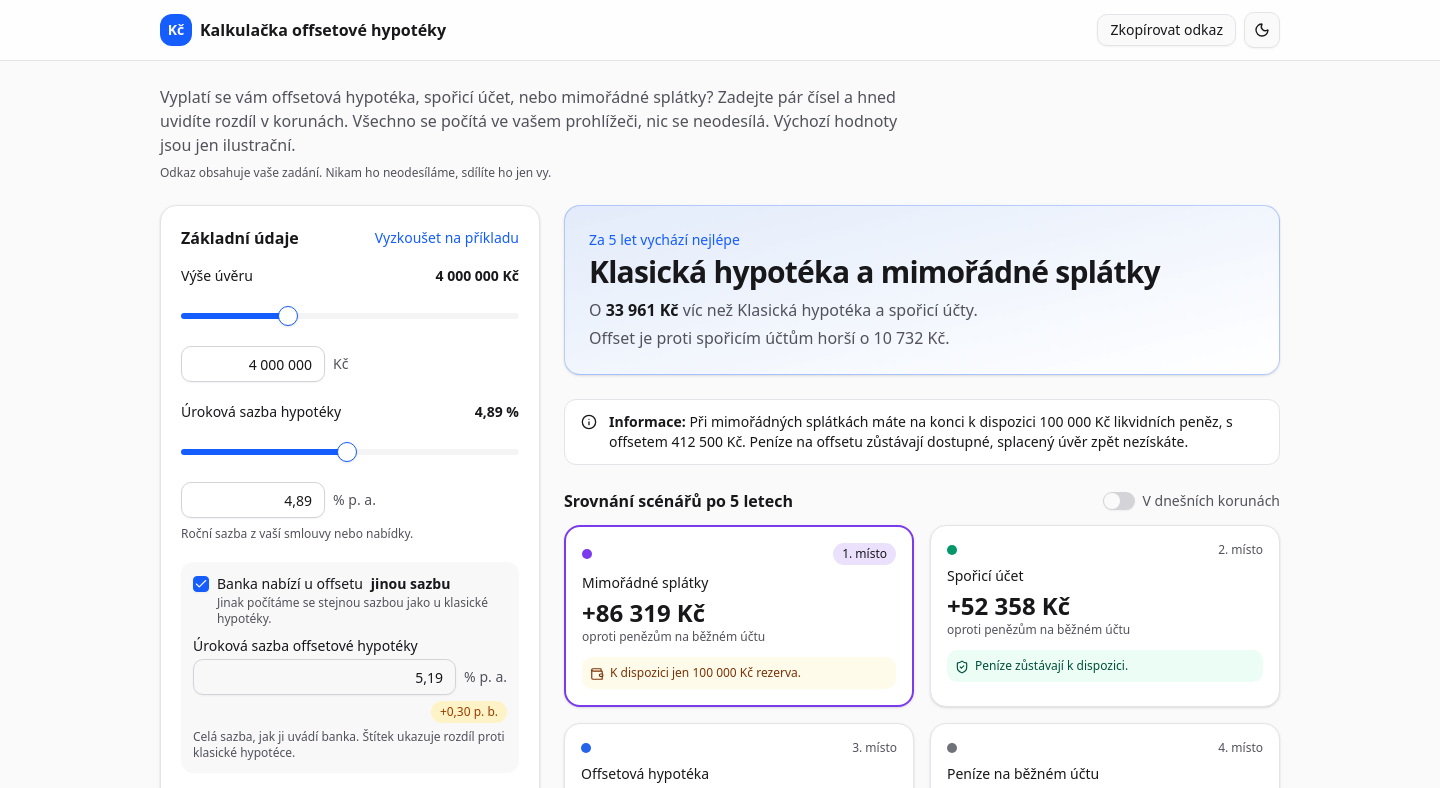
the offset rate follows the mortgage rate until "another rate" is ticked
Click the checkbox named "Banka nabízí u offsetu jinou sazbu".
click(201, 584)  # box [193,576,209,592]
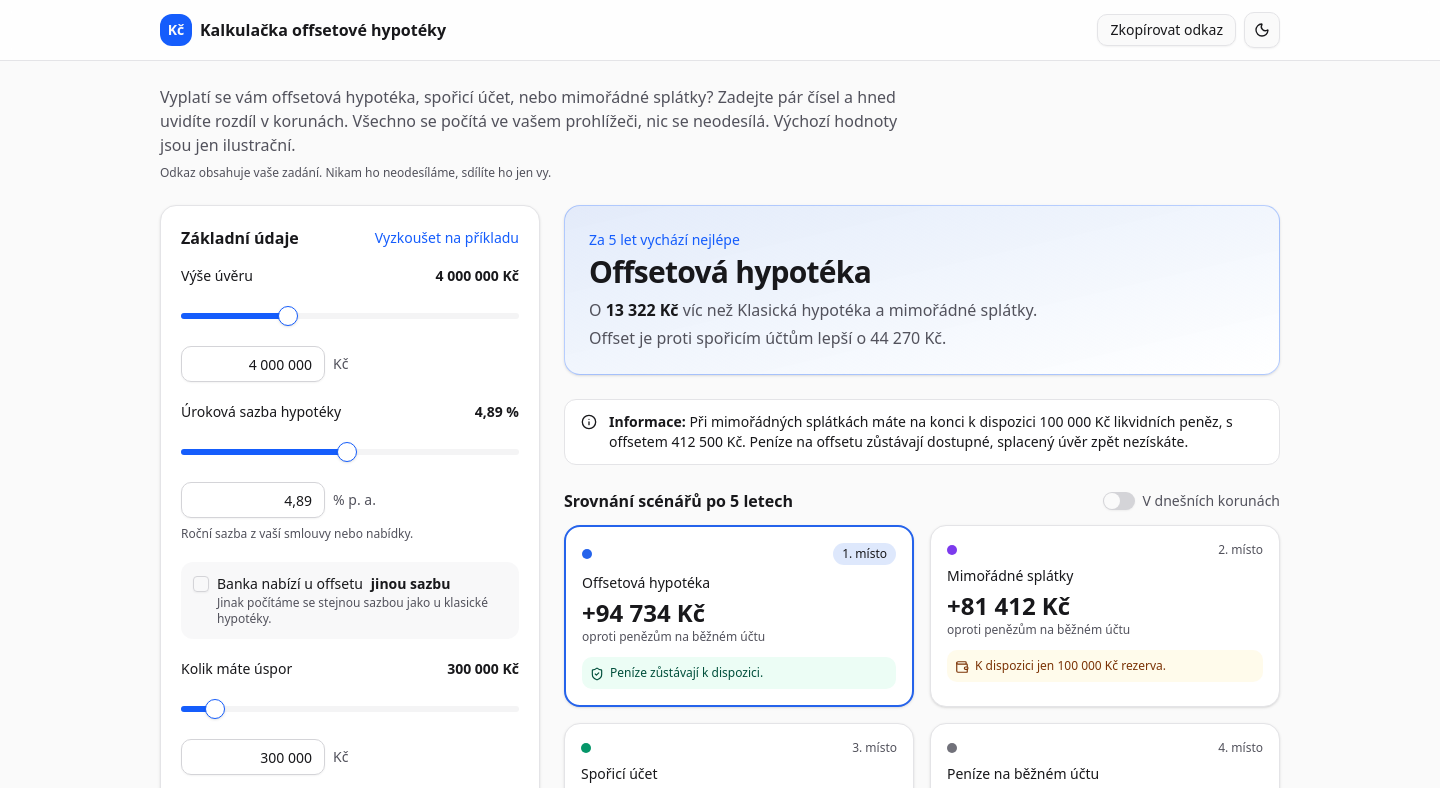
Check: the label labelled "Úroková sazba offsetové hypotéky" is gone
Replace the text in the field labelled "Úroková sazba hypotéky" with "5,5" at (253, 500), box [181,482,325,518]
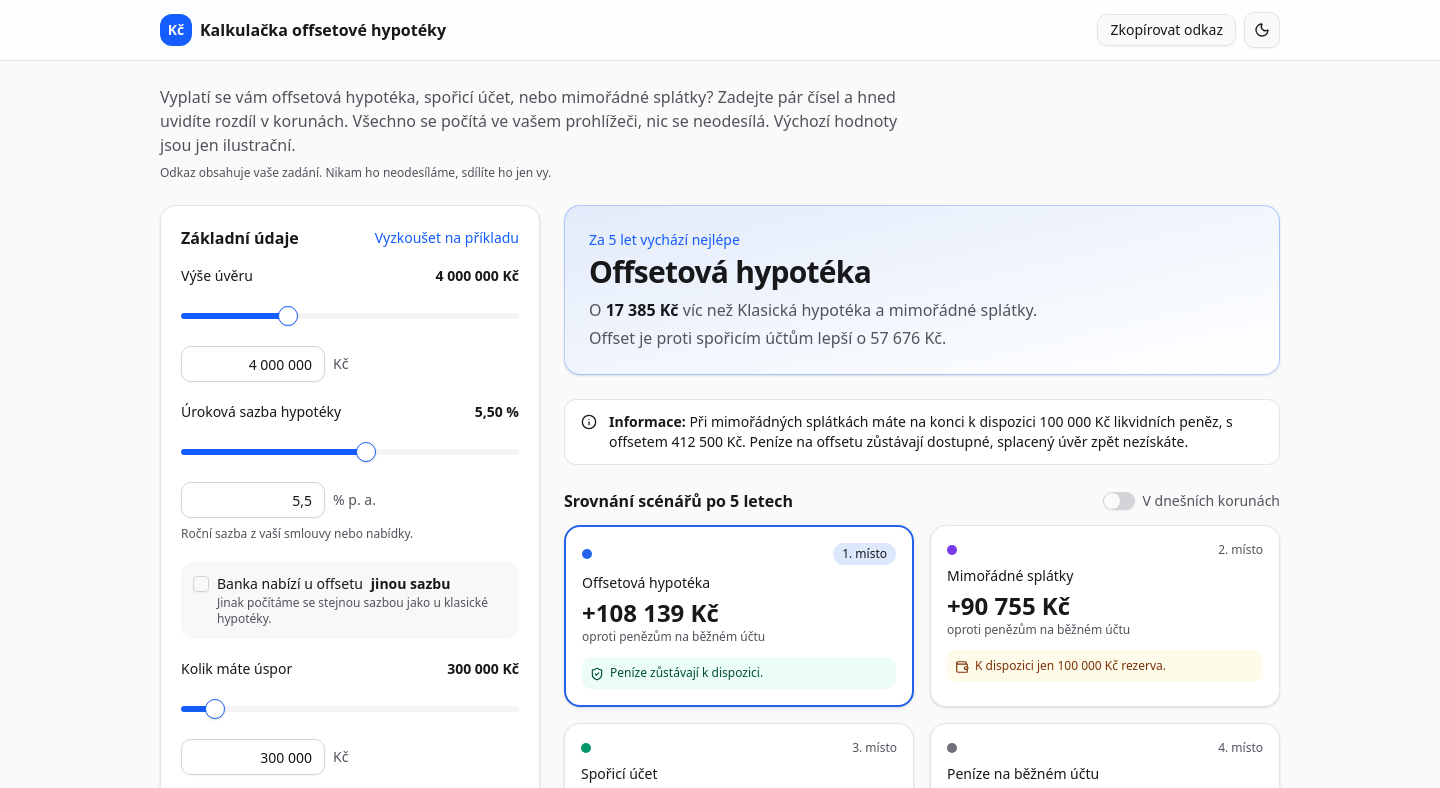
Click the checkbox named "Banka nabízí u offsetu jinou sazbu".
click(201, 584)  # box [193,576,209,592]
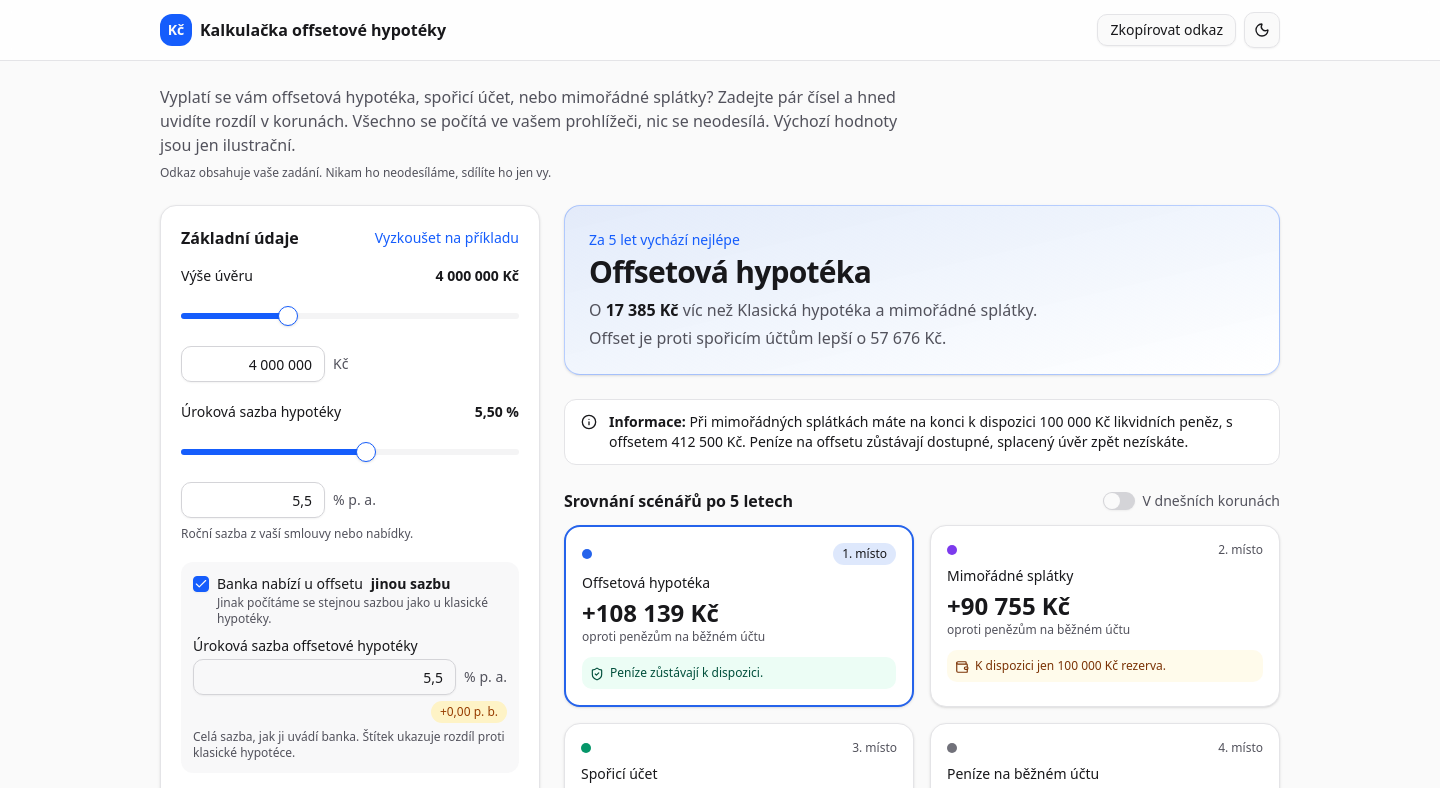
Check: the field labelled "Úroková sazba offsetové hypotéky" holds "5,5", box [193,659,456,695]
Check: the text "+0,00 p. b." is shown, box [431,701,507,723]
Replace the text in the field labelled "Úroková sazba hypotéky" with "6" at (253, 500), box [181,482,325,518]
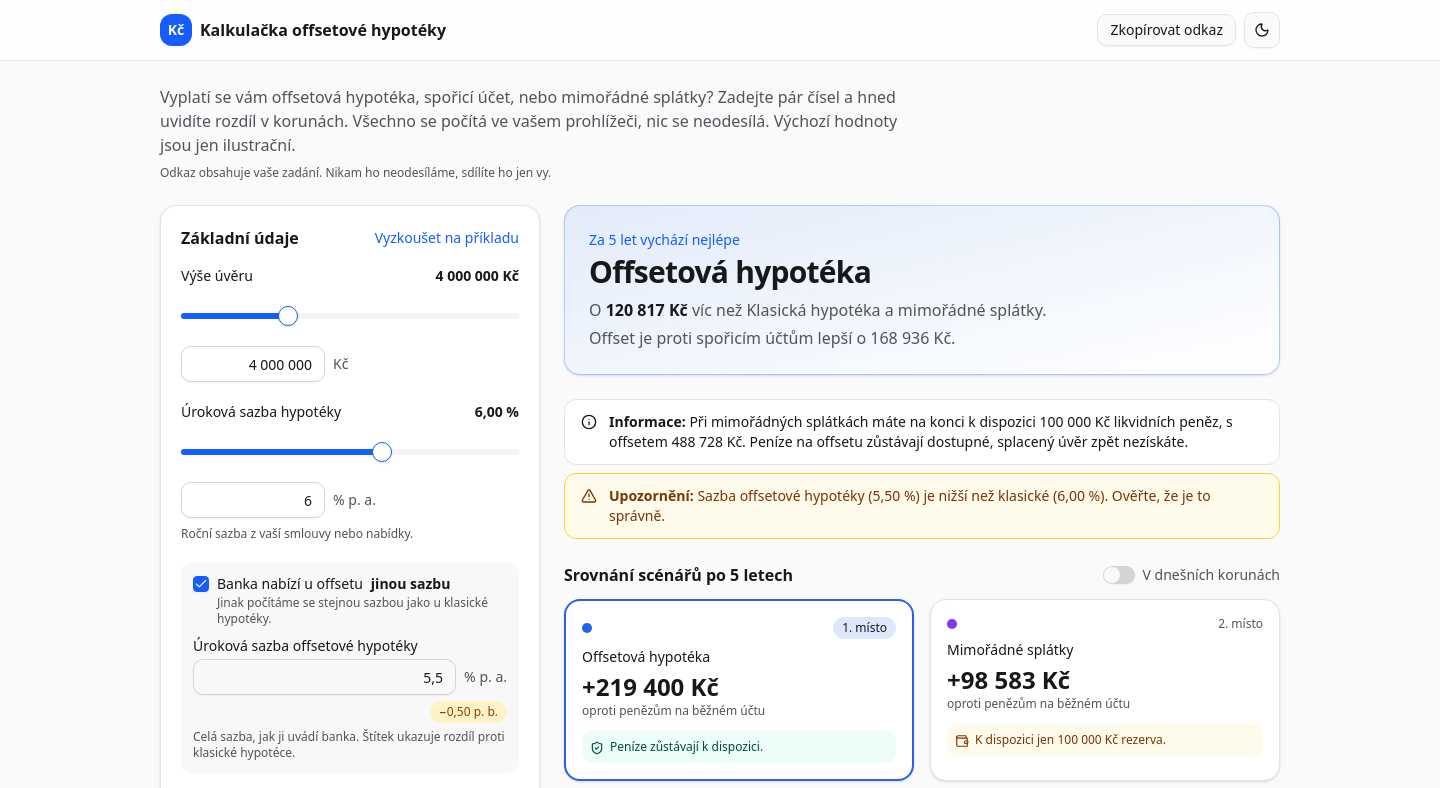
Check: the field labelled "Úroková sazba offsetové hypotéky" holds "5,5", box [193,659,456,695]
Check: the text "−0,50 p. b." is shown, box [430,701,507,723]
